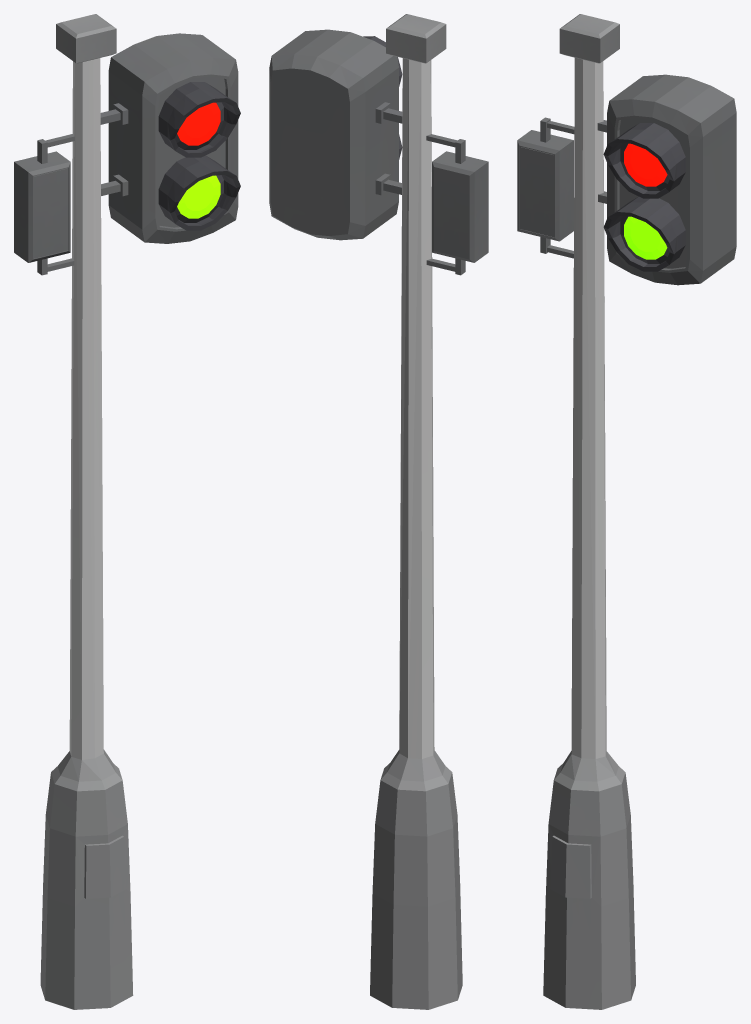
The model's file is traffic_light_3.dae.
The picture shows the model from 3 angles, left to right: view 1: azimuth 30°, elevation 25°; view 2: azimuth 150°, elevation 25°; view 3: azimuth 330°, elevation 25°; orthographic projection.
Visible parts, largest first — view 1: pole_3, traffic_light_3, thingy_3, green_3, red_3; view 2: pole_3, traffic_light_3, thingy_3; view 3: pole_3, traffic_light_3, thingy_3, green_3, red_3.
Boxes of the visible parts, x1,y1,x2,y2 form: pole_3: [40, 14, 133, 1009]; traffic_light_3: [100, 33, 240, 243]; thingy_3: [14, 134, 74, 275]; green_3: [177, 175, 220, 218]; red_3: [177, 102, 220, 145]; pole_3: [370, 14, 462, 1009]; traffic_light_3: [269, 29, 402, 240]; thingy_3: [426, 134, 488, 275]; pole_3: [543, 14, 635, 1009]; traffic_light_3: [597, 74, 736, 285]; thingy_3: [517, 117, 574, 258]; green_3: [624, 216, 667, 259]; red_3: [624, 143, 667, 186].
Bounding box in the file's own units: 1.05 × 0.6121 × 4.9.
Materials: 3 (1 with a texture image).
